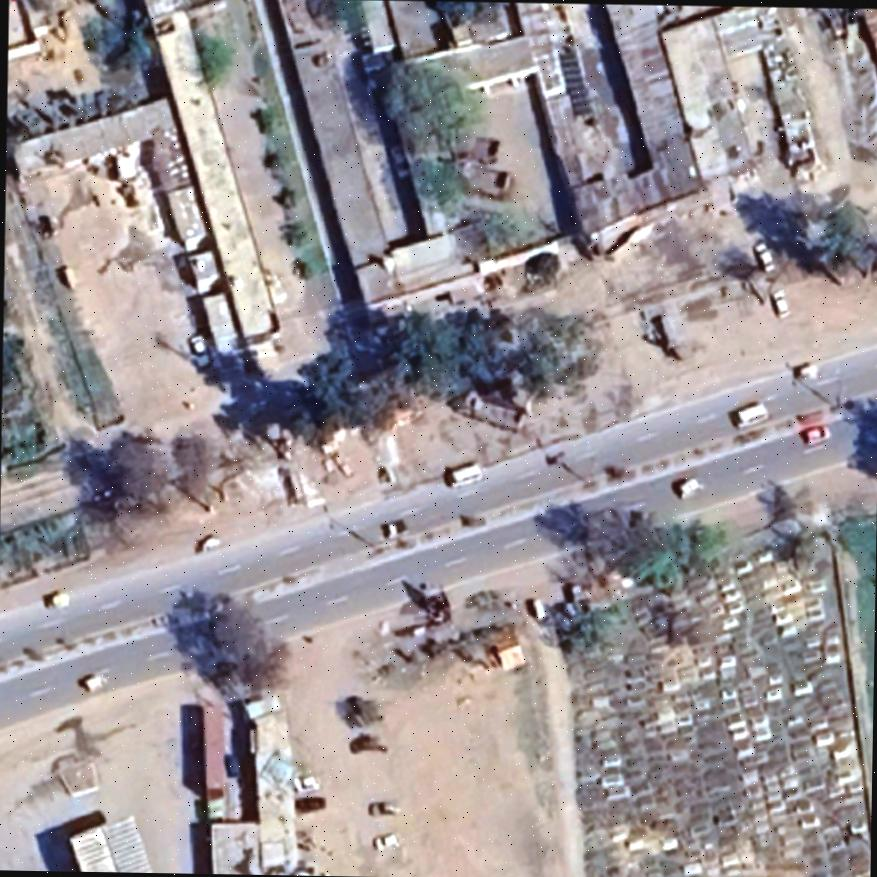Solarpanel: (551, 35, 591, 118)
